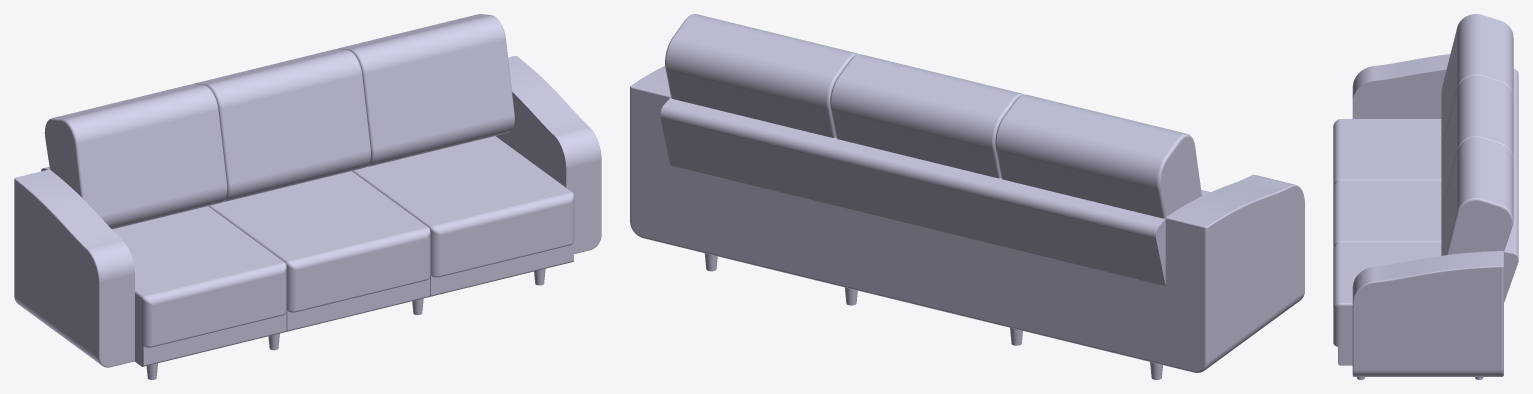
File: sofa.gltf
3 renders of one model, left to right at view 1: azimuth 30°, elevation 25°; view 2: azimuth 150°, elevation 25°; view 3: azimuth 270°, elevation 25°, orthographic. The views are drawn at different scales.
Parts seen in each view (by area): view 1: body_clone, foot_clone; view 2: body_clone, foot_clone; view 3: body_clone.
Boxes of the visible parts, left/top/right/bottom form: body_clone: left=14, top=14, right=601, bottom=367; foot_clone: left=146, top=268, right=545, bottom=379; body_clone: left=630, top=14, right=1304, bottom=372; foot_clone: left=704, top=253, right=1162, bottom=379; body_clone: left=1333, top=14, right=1518, bottom=376.
Size of the model in its own units: 2.1 by 0.855 by 0.7613.
